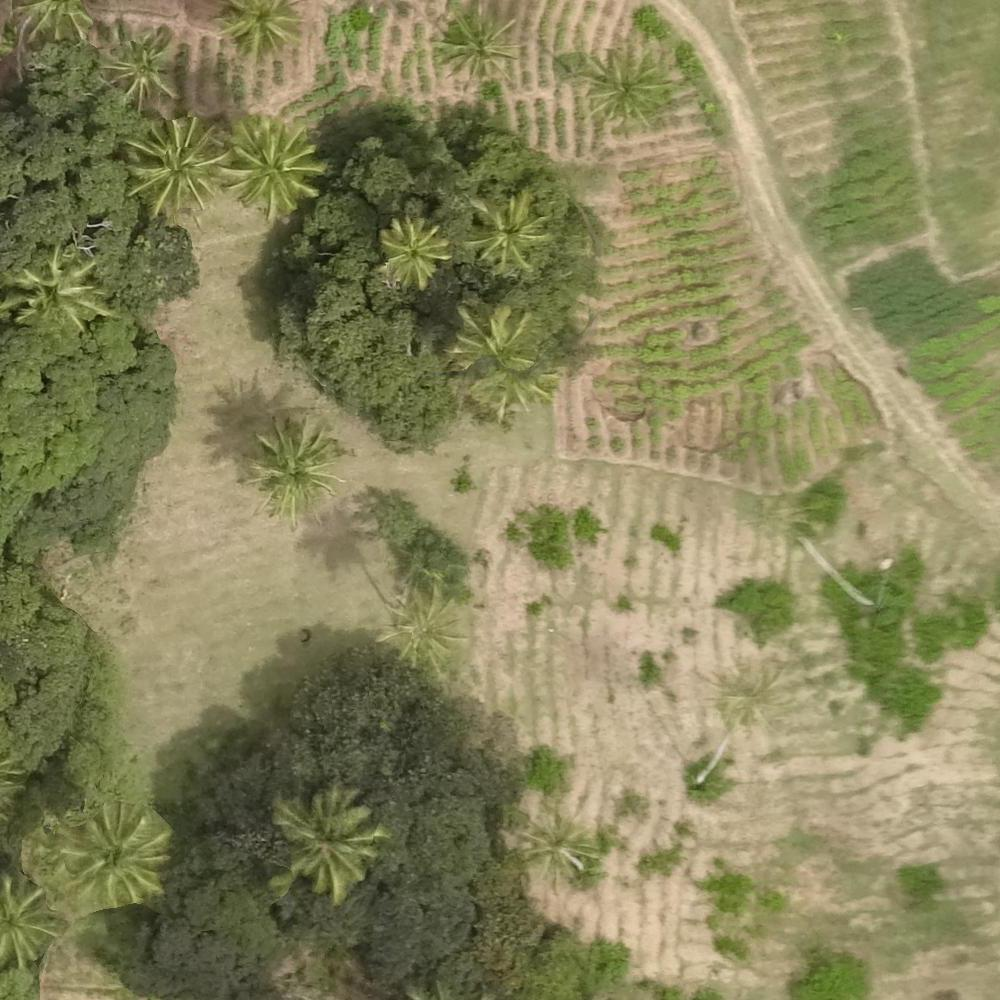Palm: (269, 786, 374, 895), (455, 307, 560, 411), (64, 800, 166, 905), (122, 115, 225, 218), (224, 119, 323, 211), (246, 422, 338, 519), (13, 245, 104, 332), (582, 50, 673, 127), (465, 188, 549, 271), (382, 592, 465, 676), (437, 2, 517, 86), (106, 28, 179, 105), (219, 2, 305, 61), (378, 214, 447, 286)
